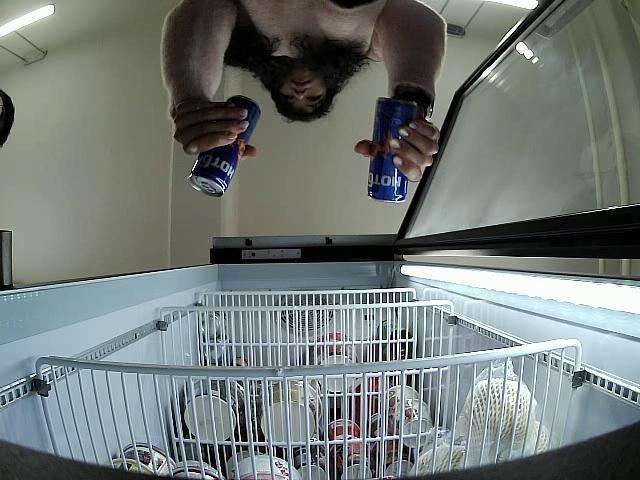16_hot6: (188, 95, 262, 198), (366, 95, 418, 204)
